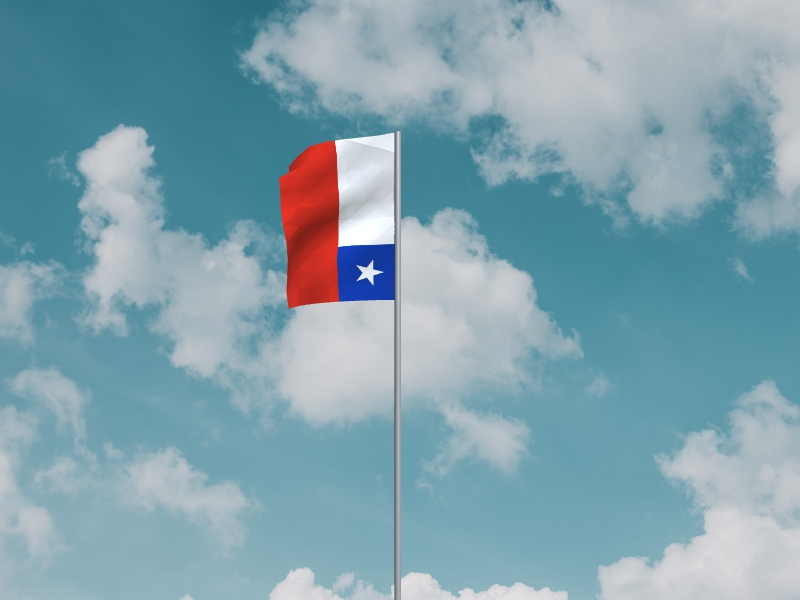cl: (279, 133, 395, 311)
